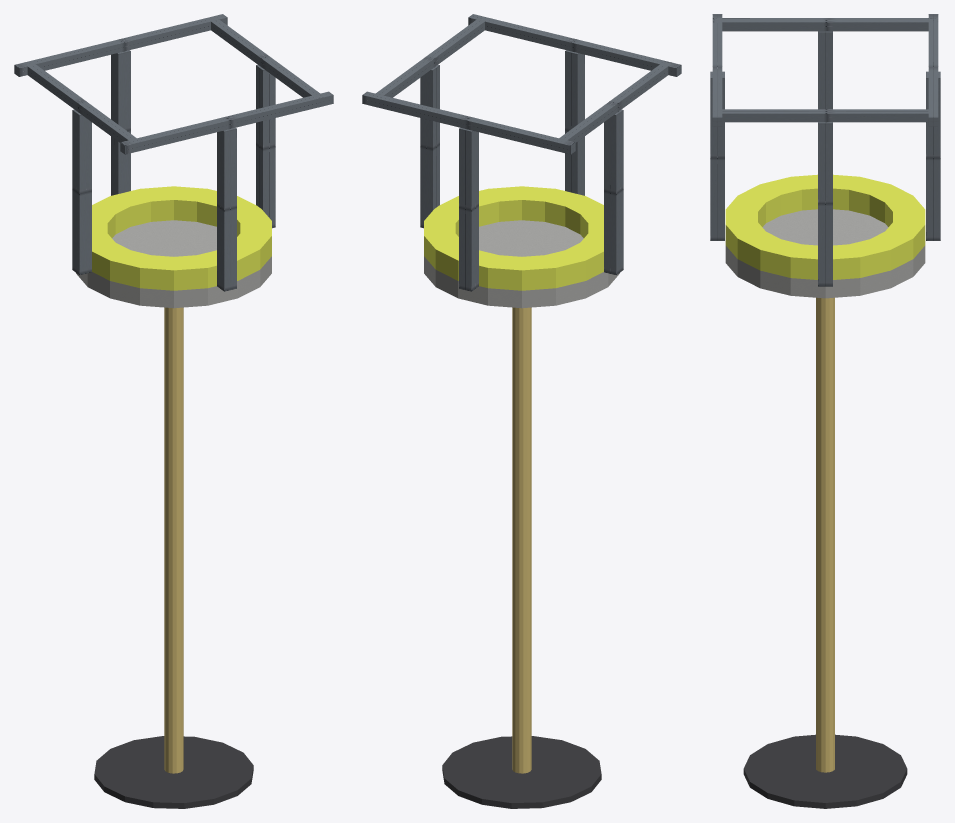
Rendered from fire-and-emergency-services-pole-drop-15b2a3dd__29890.glb.
3 views of the same model, side by side, from view 1: azimuth 30°, elevation 25°; view 2: azimuth 150°, elevation 25°; view 3: azimuth 270°, elevation 25° (orthographic).
Visible parts, largest first — view 1: pole-drop; view 2: pole-drop; view 3: pole-drop.
Part boxes in pixels (x1=…): pole-drop: x1=14, y1=14, x2=333, y2=808; pole-drop: x1=362, y1=14, x2=681, y2=808; pole-drop: x1=710, y1=14, x2=940, y2=808.
Size of the model in its own units: 1.5 by 4.78 by 1.41.
5 materials, 2 textured.
